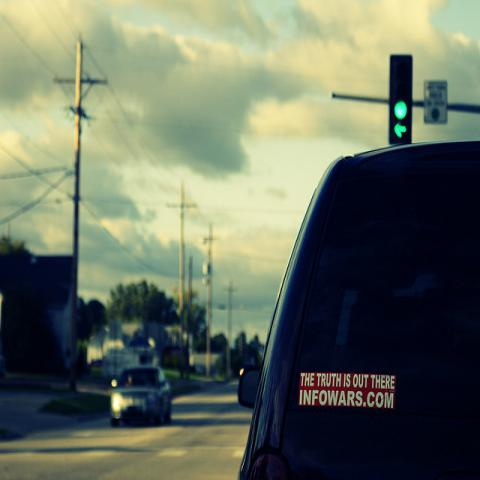car: (235, 141, 479, 475), (109, 367, 171, 428)
